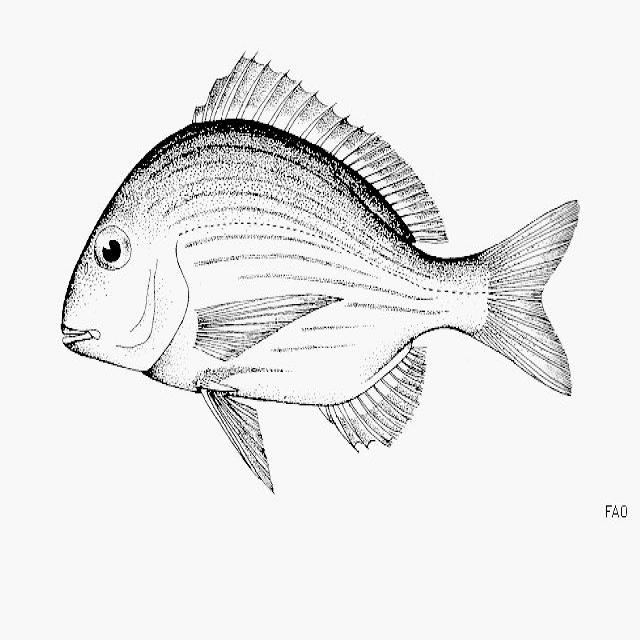ikan: (59, 48, 580, 493)
